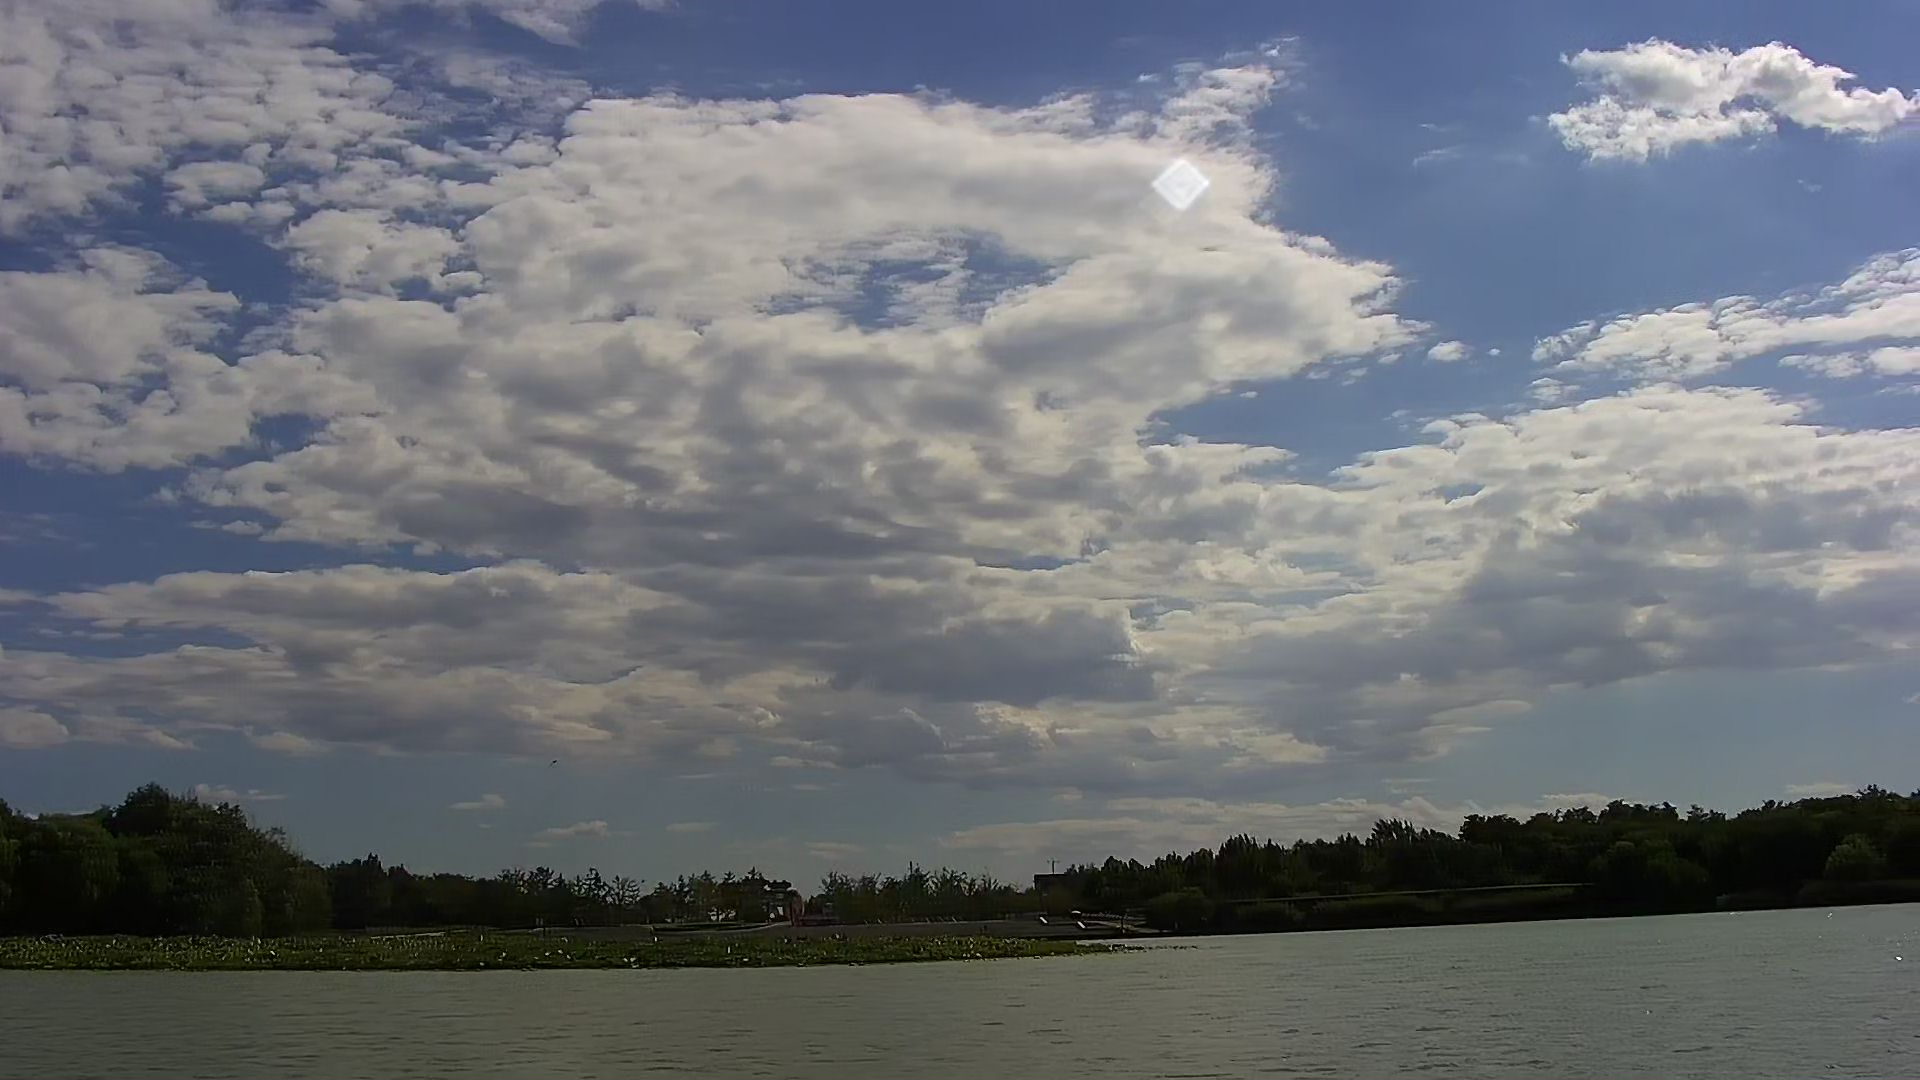grass: (3, 938, 1154, 967)
